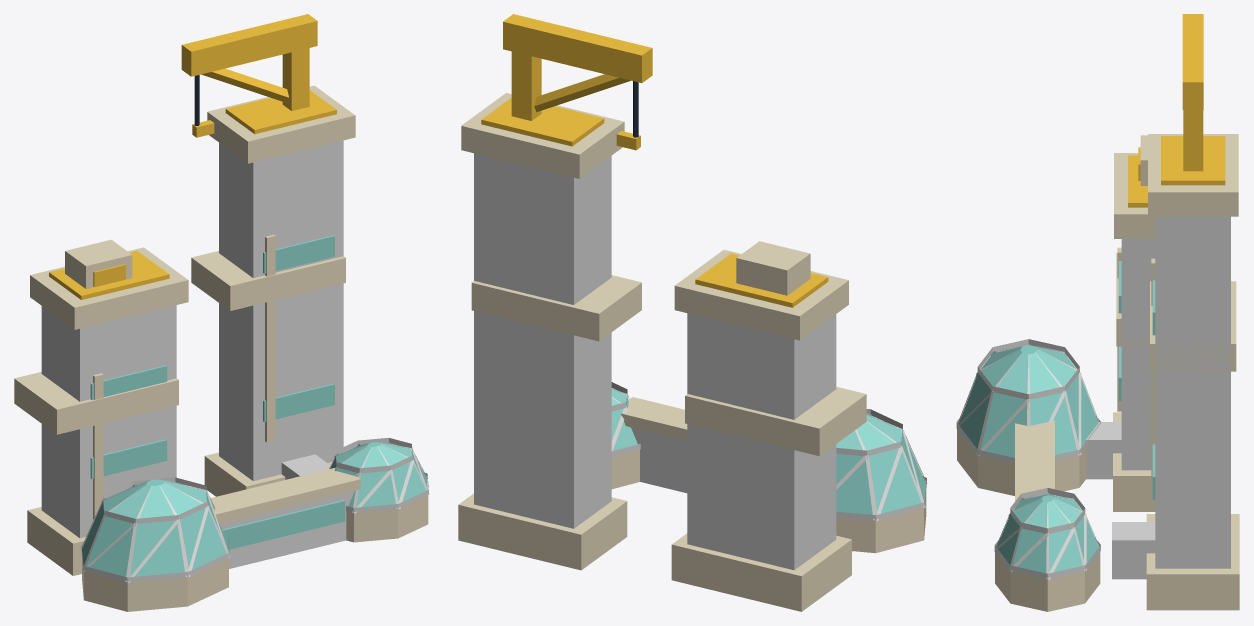
File: space_capital_guilds.glb
3 renders of one model, left to right at view 1: azimuth 30°, elevation 25°; view 2: azimuth 150°, elevation 25°; view 3: azimuth 270°, elevation 25°, orthographic. The views are drawn at different scales.
Parts seen in each view (by area): view 1: FixedDetails, WoodBody, BrassTrim; view 2: WoodBody, FixedDetails, BrassTrim; view 3: WoodBody, FixedDetails, BrassTrim.
Boxes of the visible parts, x1,y1,x2,y2 form: FixedDetails: [14, 75, 428, 611]; WoodBody: [41, 140, 429, 582]; BrassTrim: [49, 14, 336, 299]; WoodBody: [474, 153, 927, 570]; FixedDetails: [458, 81, 926, 611]; BrassTrim: [481, 14, 828, 307]; WoodBody: [956, 216, 1230, 579]; FixedDetails: [957, 134, 1239, 611]; BrassTrim: [1128, 14, 1225, 207].
Size of the model in its own units: 0.3973 by 0.4996 by 0.249.
